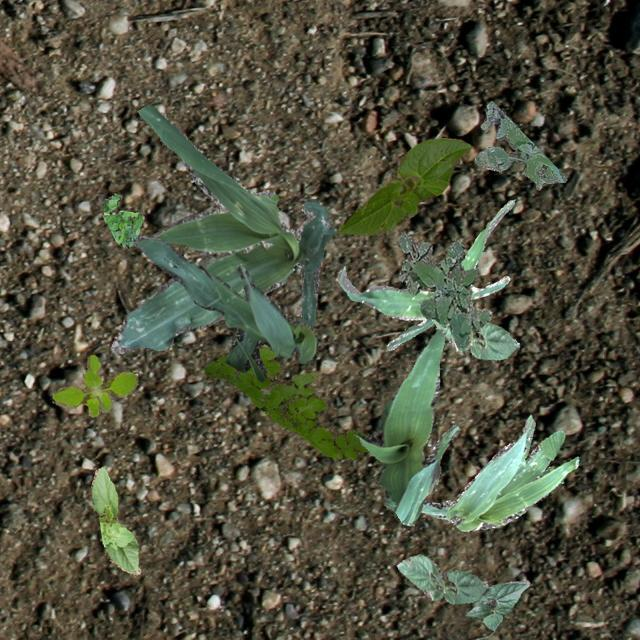crop: (110, 104, 336, 352), (132, 234, 318, 380), (336, 198, 514, 349), (384, 414, 578, 532), (353, 328, 458, 528), (338, 136, 469, 235), (89, 466, 140, 574), (396, 552, 488, 602), (431, 317, 518, 358), (464, 580, 528, 630)
weed: (204, 346, 366, 458), (396, 232, 491, 348), (474, 100, 566, 188), (52, 354, 136, 416), (102, 192, 142, 248)
